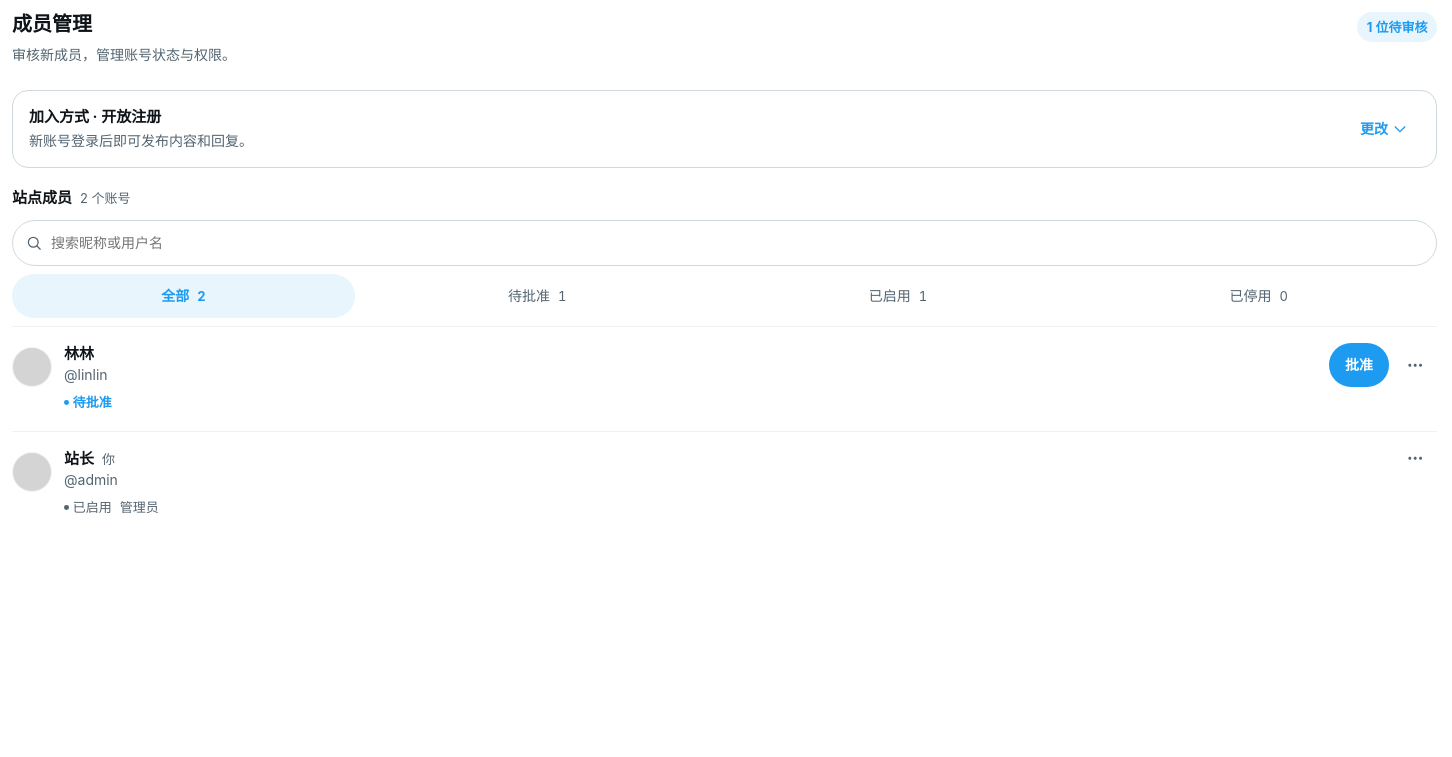
Test: members section › says what went wrong and keeps the old policy when the write fails
Click the button with aria-label "更改加入方式": (1384,129) x1=1348 y1=107 x2=1420 y2=151
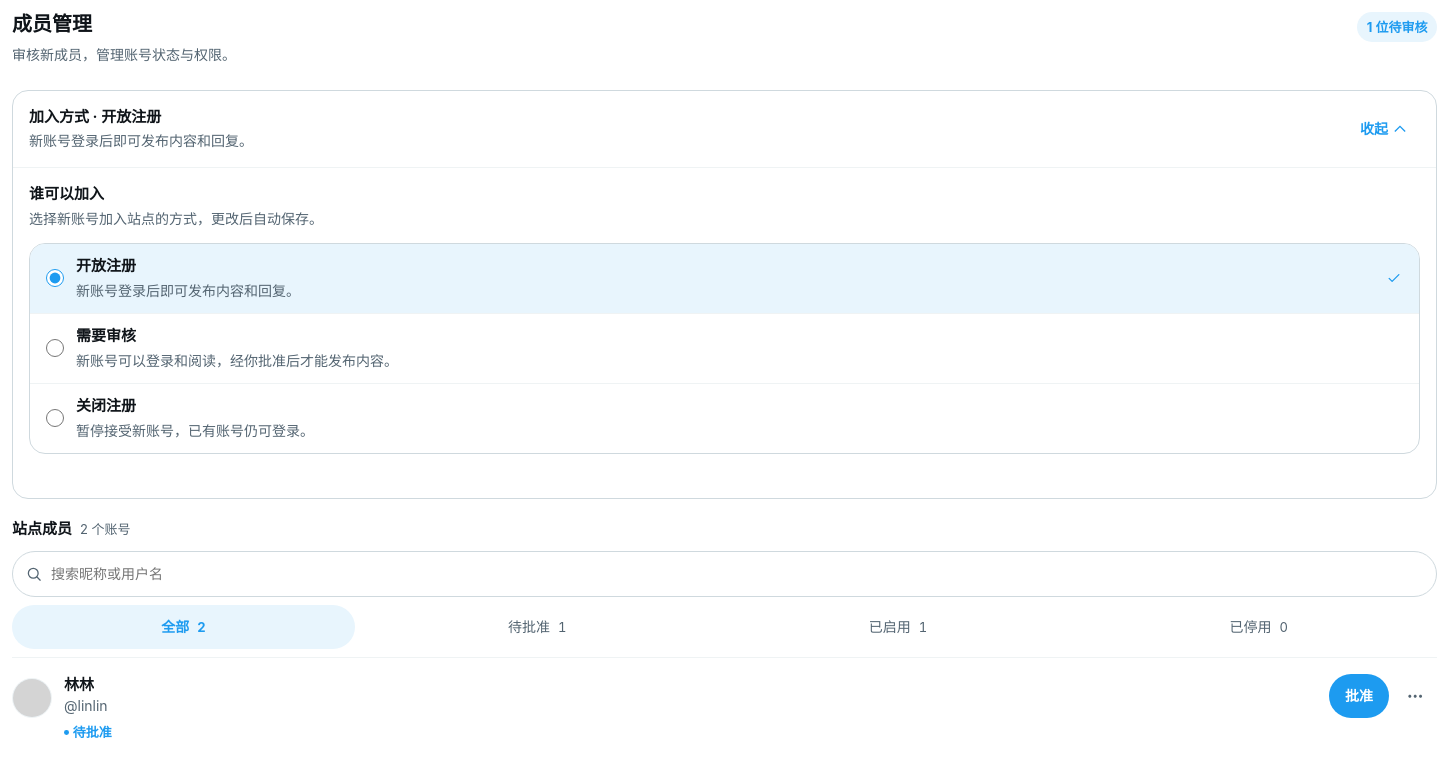
Now the radio button labelled "开放注册 新账号登录后即可发布内容和回复。" is checked, box x1=46 y1=269 x2=64 y2=287
Click the radio button labelled "关闭注册 暂停接受新账号，已有账号仍可登录。": (55,418) x1=46 y1=409 x2=64 y2=427
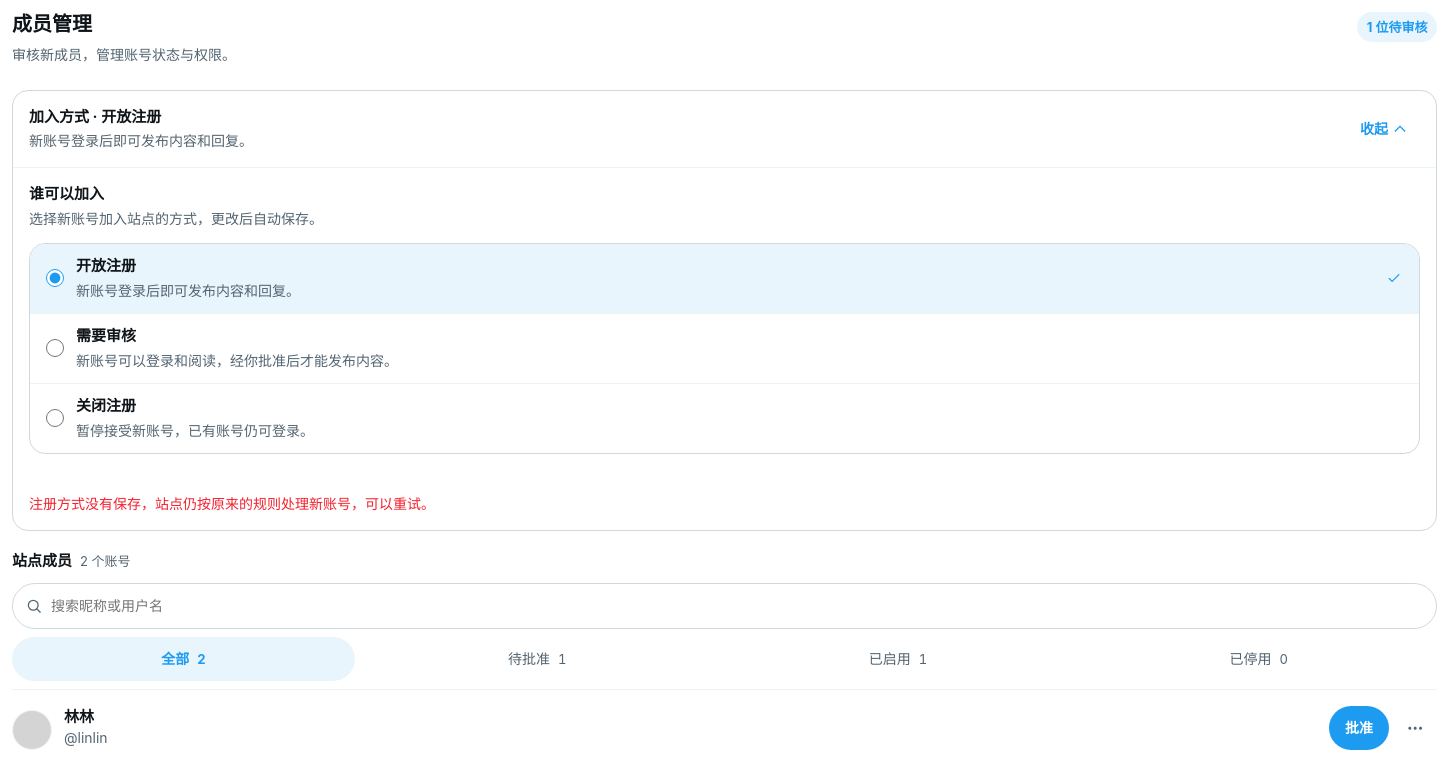
Now the radio button labelled "开放注册 新账号登录后即可发布内容和回复。" is checked, box x1=46 y1=269 x2=64 y2=287
Now the message shows "注册方式没有保存", box x1=29 y1=495 x2=435 y2=512
